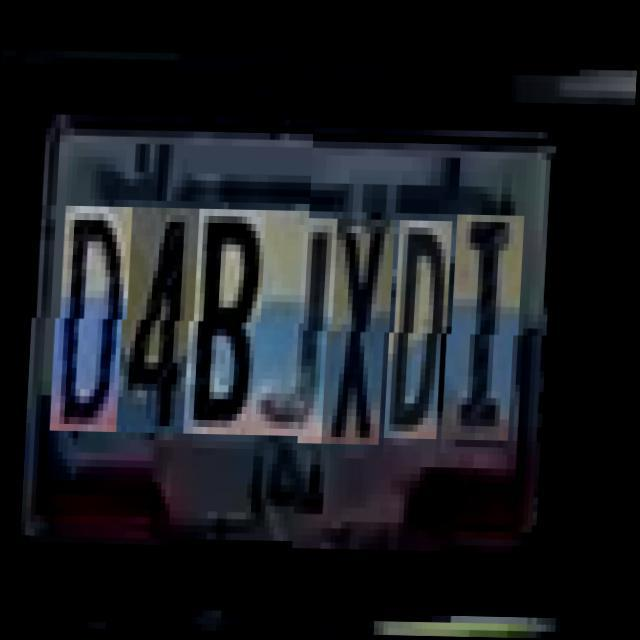4: (126, 213, 202, 440)
B: (192, 215, 268, 441)
D: (59, 212, 135, 438), (394, 218, 454, 437)
I: (451, 212, 526, 438)
J: (260, 216, 340, 442)
X: (331, 217, 398, 443)
